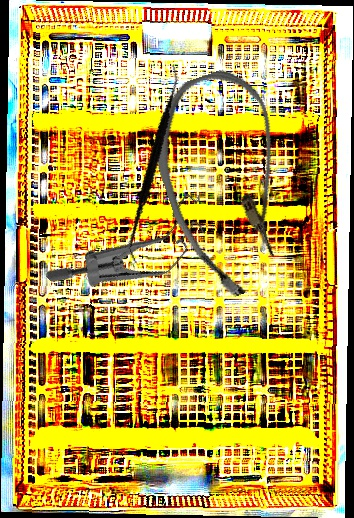Cannula: (134, 60, 321, 307)
Spatula Surgical: (77, 63, 232, 265)
Speculum: (42, 151, 224, 339)
